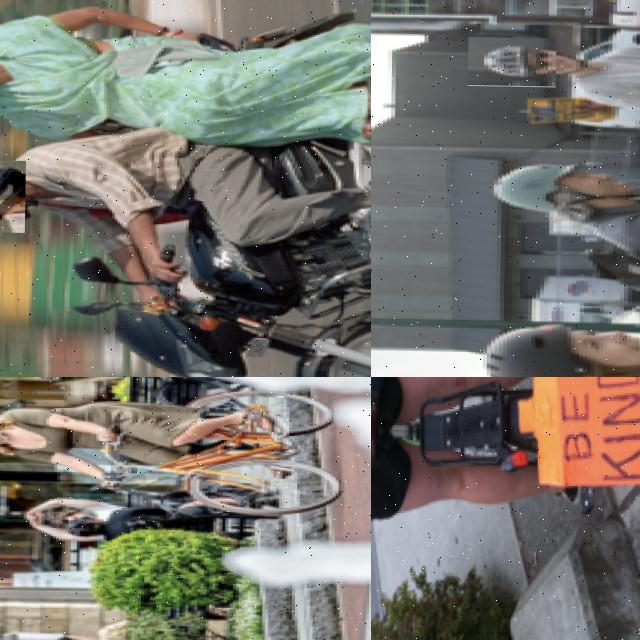helmet: (465, 317, 640, 377), (485, 146, 610, 224), (467, 35, 556, 86), (0, 157, 25, 231)
